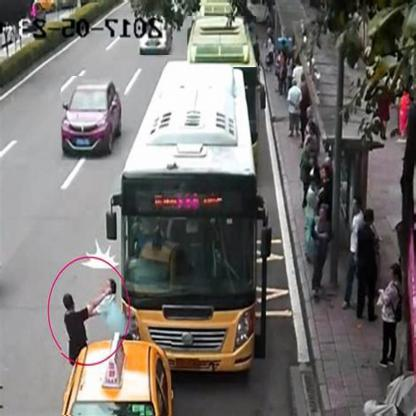bus: (126, 68, 267, 385), (188, 17, 257, 69)
car: (62, 342, 172, 416), (62, 77, 123, 162), (136, 19, 174, 57)
